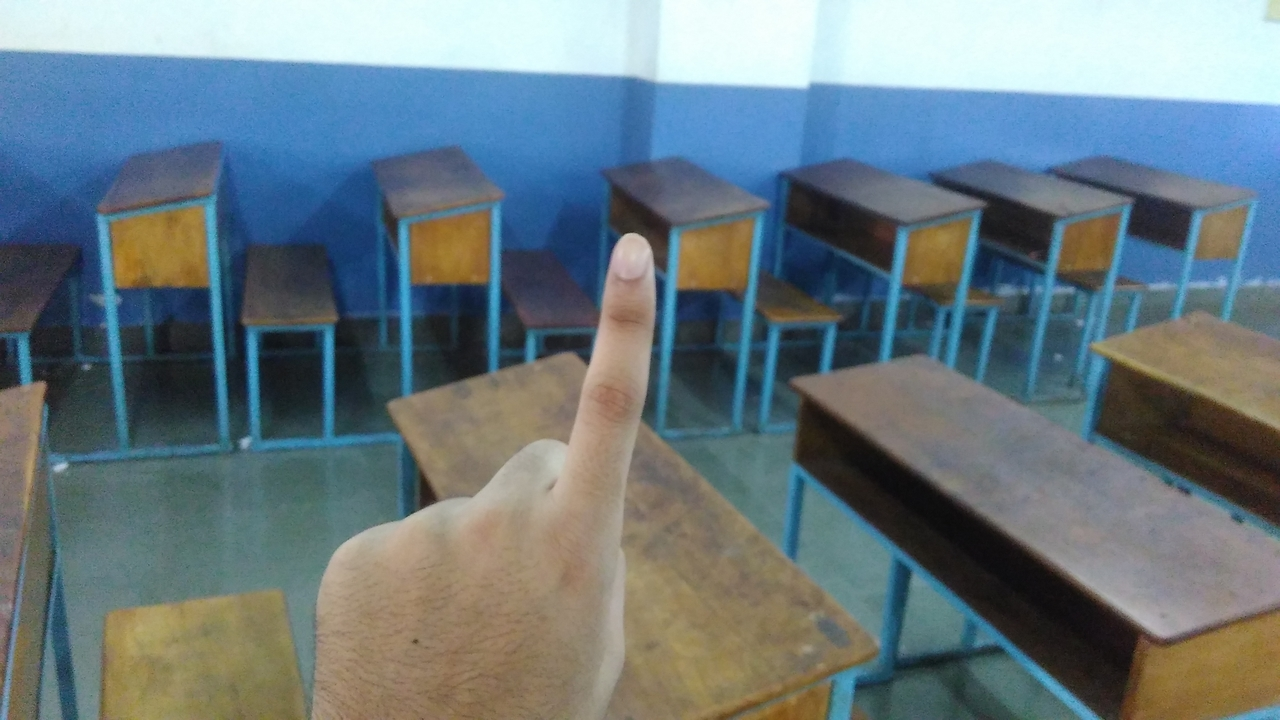fingertip: (596, 224, 662, 296)
